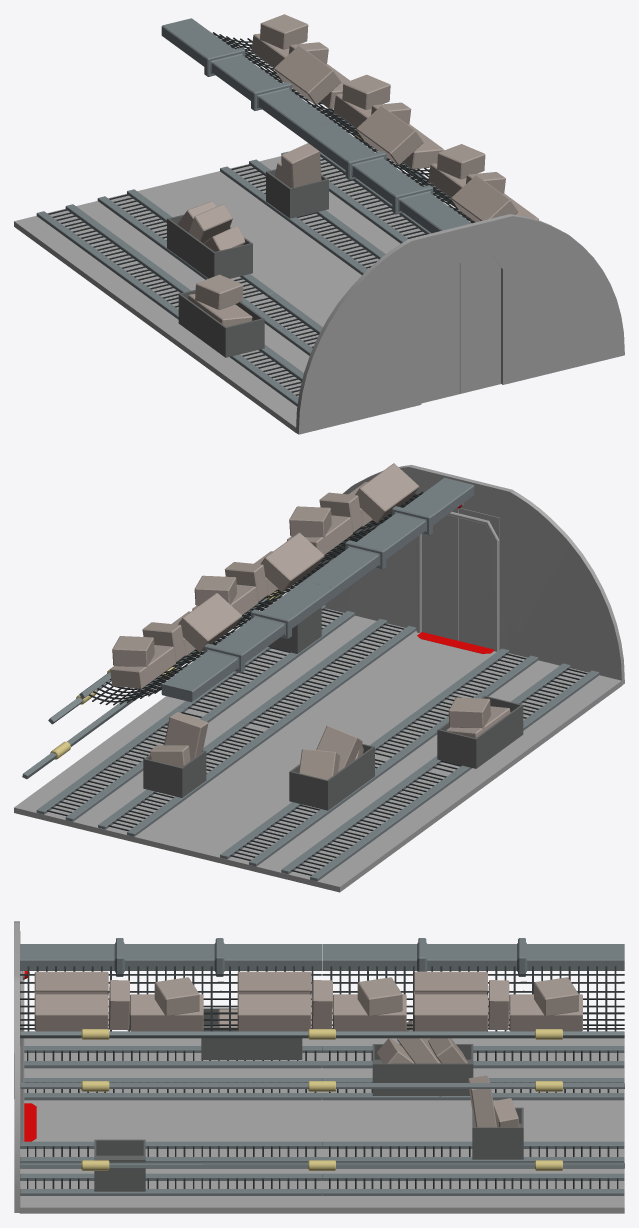
File: hangar(2).fbx
3 views of the same model, one above another, from view 1: azimuth 30°, elevation 25°; view 2: azimuth 150°, elevation 25°; view 3: azimuth 270°, elevation 25° (orthographic). The views are drawn at different scales.
Parts seen in each view (by area): view 1: polySurface121, petit_sol_d, poutre (×2), pCube10 (×6), Porte_g_02, Porte_g_01, caisse, pCube9 (×3), pCube23, polySurface133, polySurface143, grp_04 (+12 smaller); view 2: petit_sol_d, polySurface121, poutre (×2), pCube10 (×8), pCube9 (×7), Porte_g_01, Porte_g_02, caisse, pCube23, polySurface133, polySurface143, carton_foncé (+17 smaller); view 3: petit_sol_d, poutre (×2), pCube9 (×8), pCube10 (×8), barre, pCube23, polySurface134, polySurface144, polySurface139, caisse, pCube22, polySurface135 (+27 smaller).
Boxes of the visible parts, box(x1,y1,x2,y2) form: polySurface121: box(296, 214, 624, 434); petit_sol_d: box(14, 156, 424, 433); poutre (×2): box(161, 18, 471, 233); pCube10 (×6): box(36, 151, 408, 406); Porte_g_02: box(460, 255, 500, 393); Porte_g_01: box(421, 263, 459, 403); caisse: box(178, 290, 264, 357); pCube9 (×3): box(65, 159, 385, 296); pCube23: box(167, 214, 252, 278); polySurface133: box(356, 106, 423, 165); polySurface143: box(274, 45, 341, 104); grp_04: box(188, 274, 252, 326); petit_sol_d: box(14, 608, 621, 892); polySurface121: box(297, 465, 624, 685); poutre (×2): box(161, 477, 474, 702); pCube10 (×8): box(65, 611, 599, 881); pCube9 (×7): box(36, 619, 570, 874); Porte_g_01: box(459, 508, 499, 649); Porte_g_02: box(422, 508, 458, 640); caisse: box(437, 695, 523, 768); pCube23: box(289, 743, 374, 810); polySurface133: box(260, 532, 324, 591); polySurface143: box(178, 593, 242, 652); carton_foncé: box(355, 463, 418, 522); petit_sol_d: box(19, 1038, 624, 1213); poutre (×2): box(20, 938, 624, 976); pCube9 (×8): box(20, 1061, 624, 1195); pCube10 (×8): box(20, 1046, 624, 1180); barre: box(20, 1031, 624, 1168); pCube23: box(372, 1044, 473, 1095); polySurface134: box(237, 994, 311, 1031); polySurface144: box(414, 994, 487, 1031); polySurface139: box(34, 994, 108, 1031); caisse: box(201, 1008, 302, 1059); pCube22: box(94, 1139, 145, 1191); polySurface135: box(130, 994, 203, 1031).
Bounding box in the file's own units: 400 × 204 × 606.
